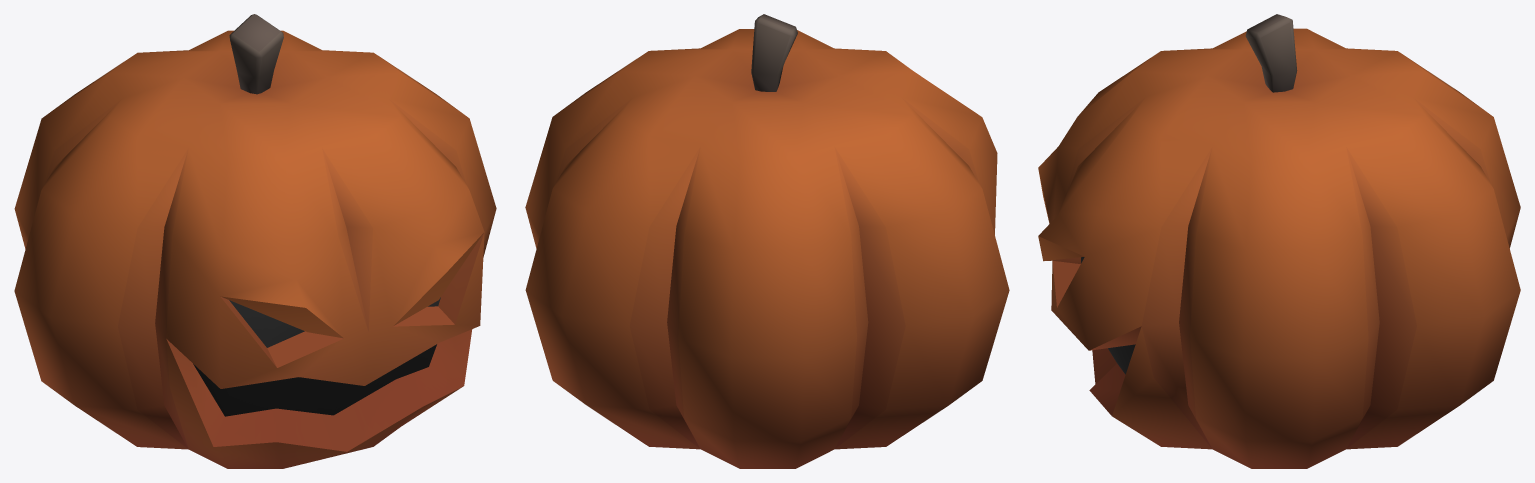
File: p-lanterne.glb
3 renders of one model, left to right at view 1: azimuth 30°, elevation 25°; view 2: azimuth 150°, elevation 25°; view 3: azimuth 270°, elevation 25°, orthographic.
Parts seen in each view (by area): view 1: pumpkin_orange_jackolantern; view 2: pumpkin_orange_jackolantern; view 3: pumpkin_orange_jackolantern.
Part boxes in pixels (box(x1,y1,x2,y2)): pumpkin_orange_jackolantern: box(14, 14, 496, 468); pumpkin_orange_jackolantern: box(525, 14, 1009, 468); pumpkin_orange_jackolantern: box(1038, 14, 1520, 468).
Bounding box in the file's own units: 1.5 × 1.3 × 1.4.
